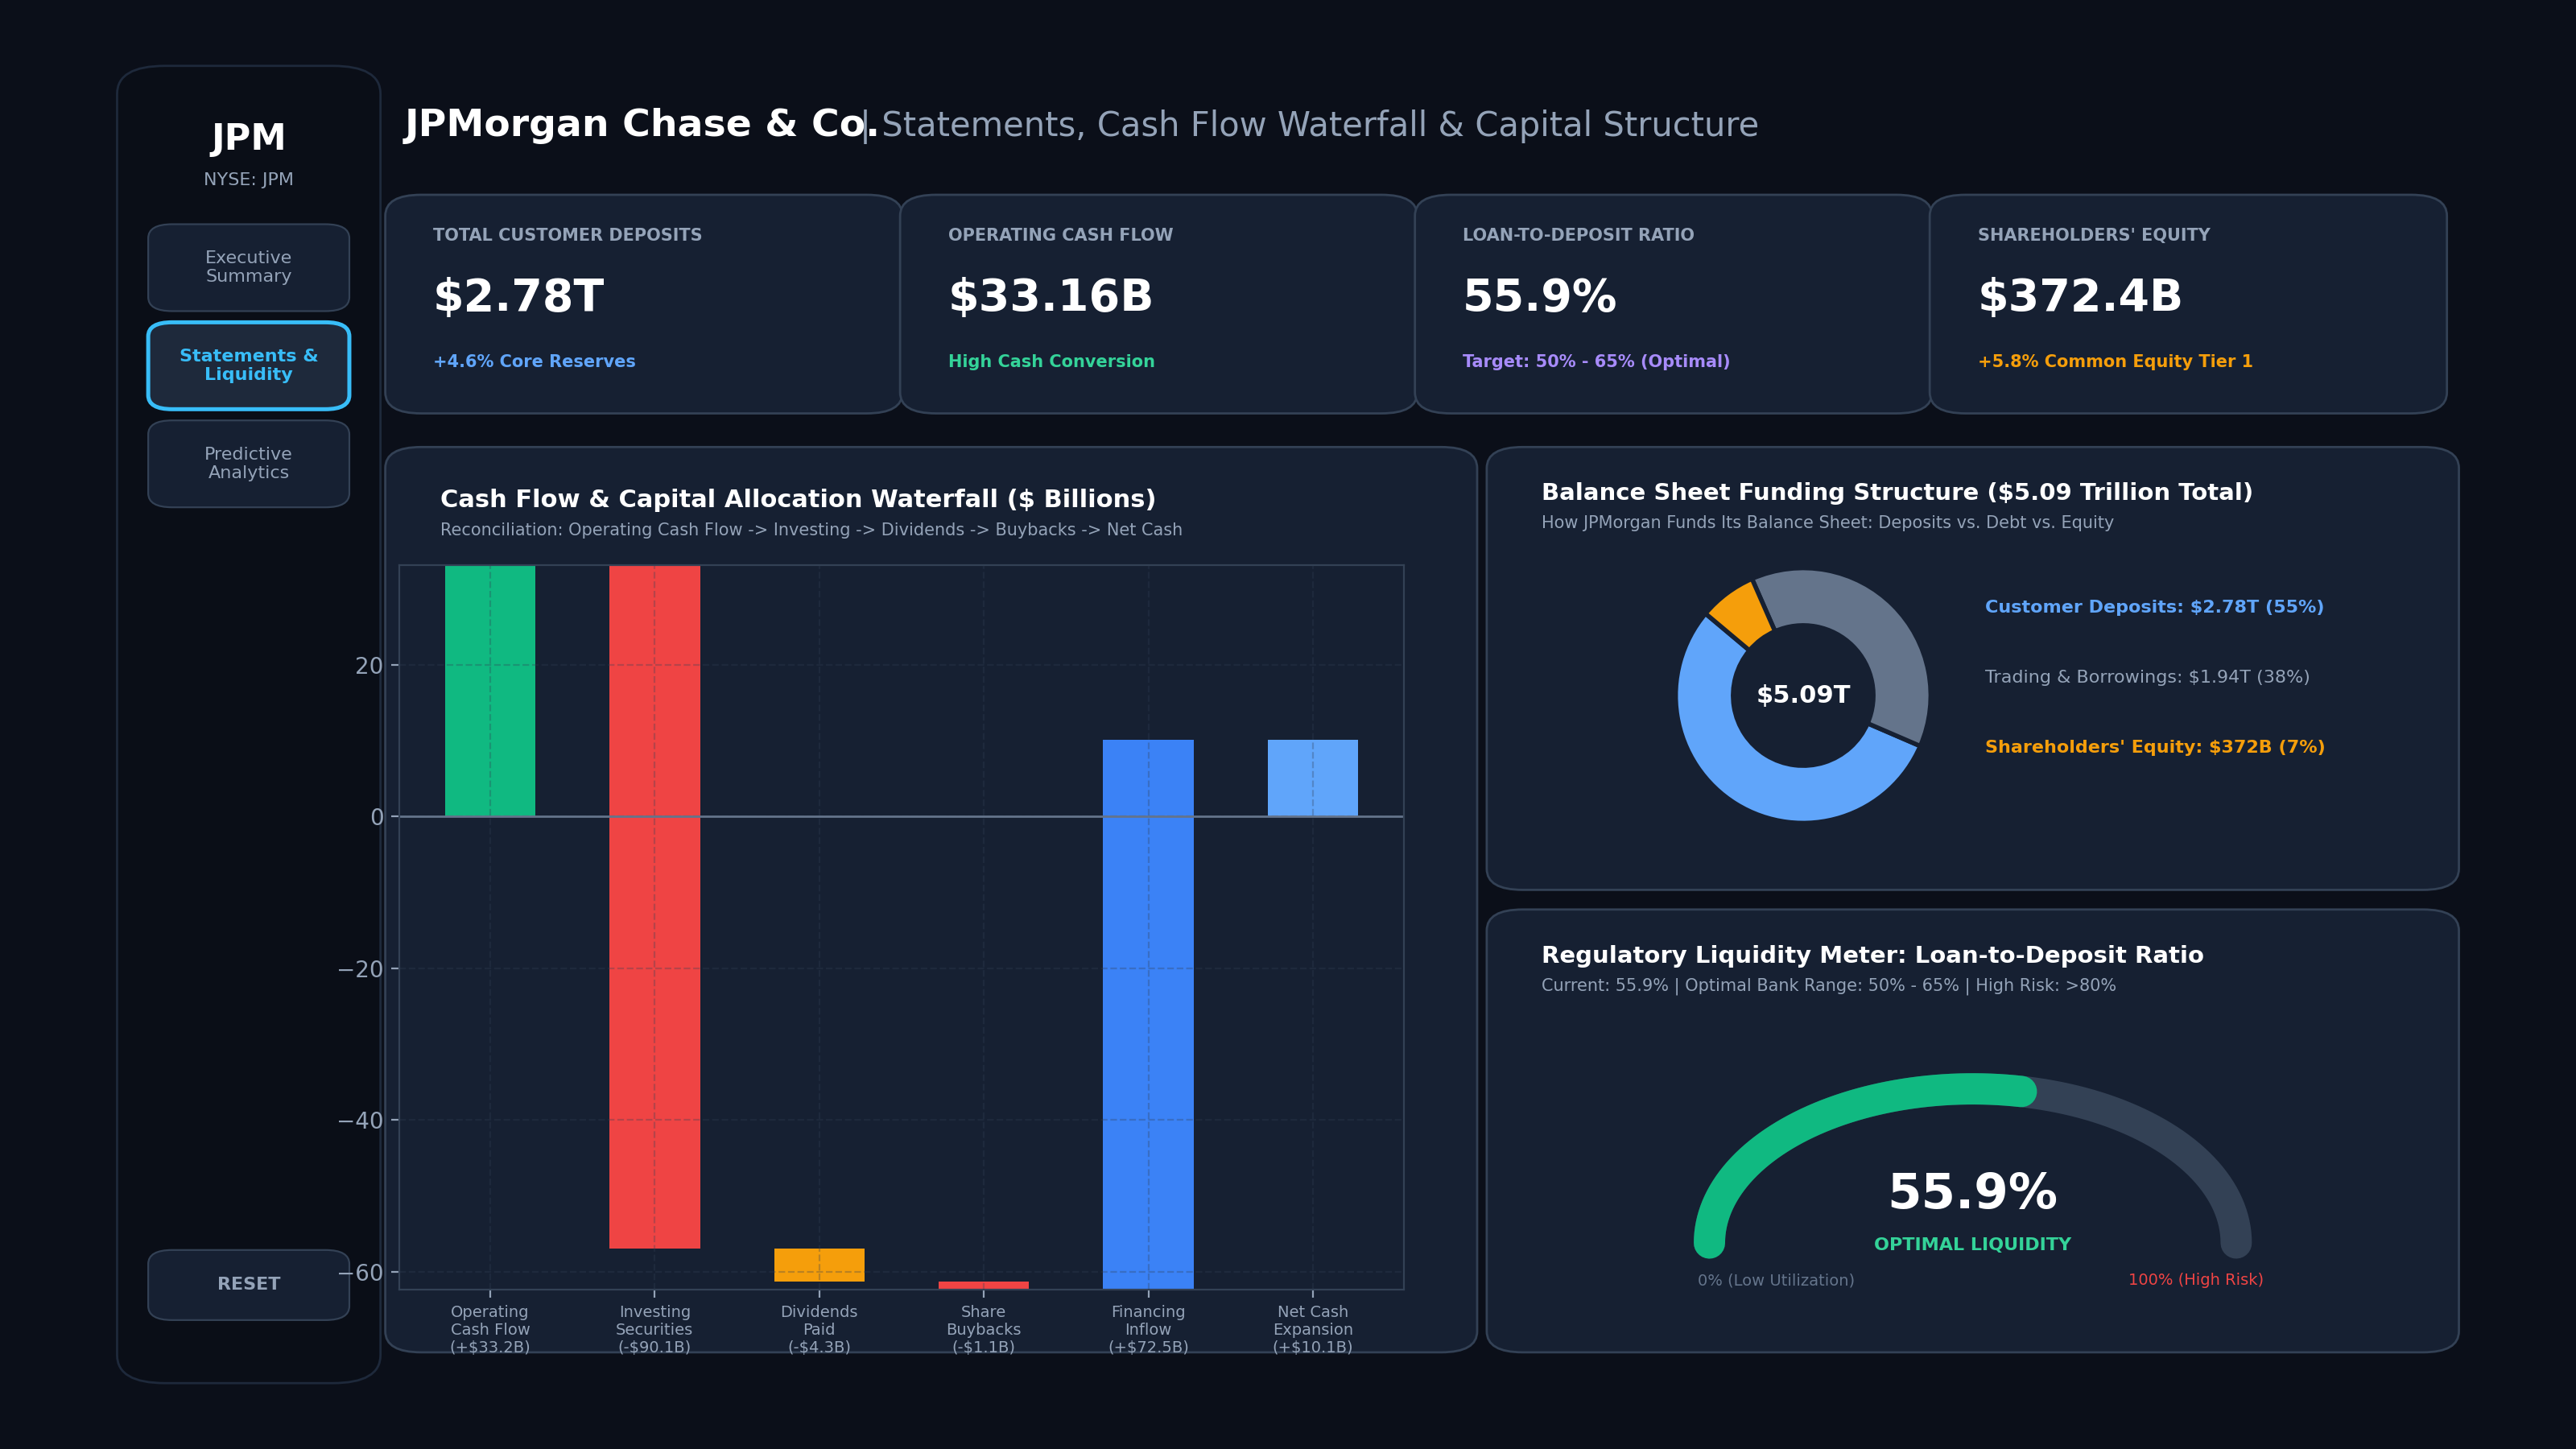

This screenshot's page, from the dashboard's own definition file:
{"tool":"powerbi","page":{"name":"Statements, Cash Flow Waterfall & Capital Structure","canvas":[1920,1080],"ordinal":1},"visuals":[{"type":"shape","box":[14,80,194,988],"z":0},{"type":"waterfallChart","title":"Cash Flow & Capital Allocation Waterfall ($ Billions)","fields":{"Category":["jpm_financials_tidy_long.Metric"],"Y":["_JPM_Measures.Cash Flow Value"]},"box":[242,316,930,746],"z":1000},{"type":"cardVisual","fields":{"Data":["_JPM_Measures.Total Deposits","_JPM_Measures.Operating Cash Flow","_JPM_Measures.Loan to Deposit Ratio %","_JPM_Measures.Shareholders Equity"]},"box":[242,80,1664,216],"z":2000},{"type":"donutChart","title":"Balance Sheet Funding Structure ($5.09T Total)","fields":{"Category":["Capital_Structure.Component"],"Y":["Sum(Capital_Structure.Amount_Billion)"]},"box":[1190,316,716,400],"z":3000},{"type":"gauge","title":"Target: 50% - 65% (Optimal Range) | Regulatory Ceiling: 65%","fields":{"Y":["_JPM_Measures.Loan to Deposit Ratio %"]},"box":[1189.2,728.6,716.9,333.3],"z":4000},{"type":"actionButton","box":[26,282,168.3,138.9],"z":5000},{"type":"actionButton","box":[26.7,464.8,168.3,138.9],"z":6000},{"type":"actionButton","box":[26.7,638.4,168.3,138.9],"z":7000},{"type":"actionButton","box":[46,976,126,52],"z":8000},{"type":"textbox","box":[14,0,1892,80],"z":9000}]}

Visuals, with their boxes in screenshot pixels (x1, y1, x2, y2), scaled from the page's 1920x1080 canvas onto the 2576x1449 screenshot:
shape: [19, 107, 279, 1433]
"Cash Flow & Capital Allocation Waterfall ($ Billions)" waterfallChart: [324, 424, 1572, 1425]
cardVisual - _JPM_Measures.Total Deposits x _JPM_Measures.Operating Cash Flow: [324, 107, 2557, 397]
"Balance Sheet Funding Structure ($5.09T Total)" donutChart: [1596, 424, 2557, 960]
"Target: 50% - 65% (Optimal Range) | Regulatory Ceiling: 65%" gauge: [1596, 977, 2557, 1425]
actionButton: [35, 378, 261, 565]
actionButton: [35, 624, 262, 810]
actionButton: [35, 857, 262, 1043]
actionButton: [62, 1310, 231, 1379]
textbox: [19, 0, 2557, 107]
